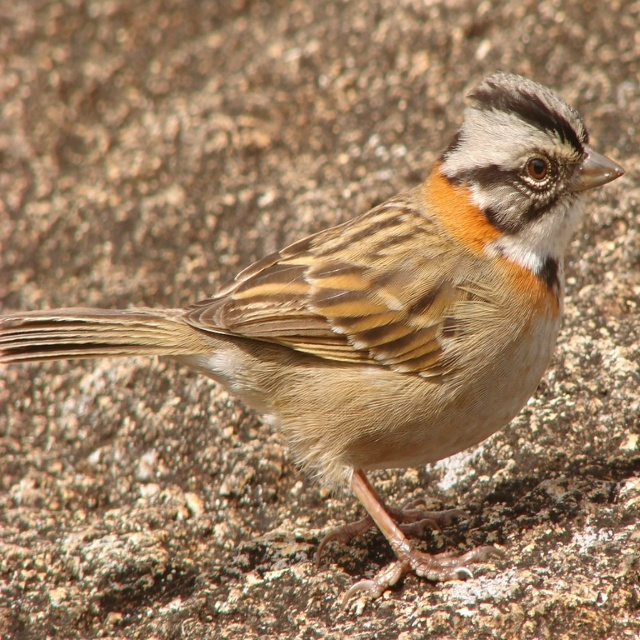Sparrow: (0, 72, 627, 612)
